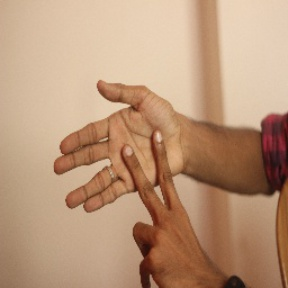N: (42, 75, 197, 256)
